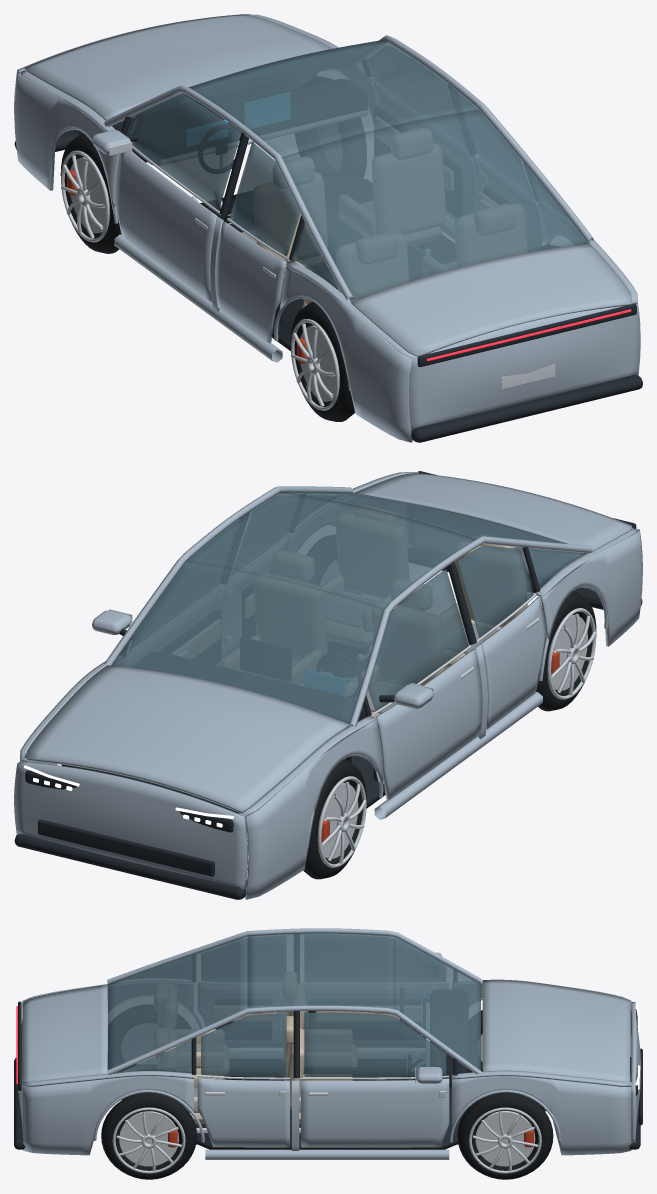
Rendered from volt-s-blender-v2.glb.
3 views of the same model, one above another, from view 1: azimuth 30°, elevation 25°; view 2: azimuth 150°, elevation 25°; view 3: azimuth 270°, elevation 25° (orthographic). The views are drawn at different scales.
Visible parts, largest first — view 1: Backlight, ArchLip_L-1.43, HoodSkin, Bumper_R_Skin, DoorSkin_FL, DoorGlass_FL, DoorSkin_RL, DoorGlass_RL, Bumper_R_Lower, BrakeDisc_FL, BrakeDisc_RL, Tire_RL (+7 smaller); view 2: Backlight, ArchLip_L-1.43, HoodSkin, Bumper_F_Skin, DoorSkin_FL, DoorGlass_FL, Bumper_F_Lower, DoorSkin_RL, DoorGlass_RL, BrakeDisc_RL, BrakeDisc_FL, Tire_FL (+7 smaller); view 3: ArchLip_L-1.43, Backlight, HoodSkin, DoorSkin_FR, DoorGlass_FR, DoorSkin_RR, DoorGlass_RR, Tire_FR, Tire_RR, BrakeDisc_RR, BrakeDisc_FR, CenterConsole (+8 smaller).
Part boxes in pixels (left/top/right/bottom): Backlight: left=121, top=39, right=590, bottom=300; ArchLip_L-1.43: left=14, top=14, right=640, bottom=442; HoodSkin: left=24, top=14, right=332, bottom=120; Bumper_R_Skin: left=409, top=304, right=640, bottom=430; DoorSkin_FL: left=92, top=130, right=217, bottom=301; DoorGlass_FL: left=130, top=95, right=241, bottom=210; DoorSkin_RL: left=216, top=221, right=286, bottom=343; DoorGlass_RL: left=229, top=142, right=300, bottom=256; Bumper_R_Lower: left=411, top=374, right=642, bottom=442; BrakeDisc_FL: left=61, top=150, right=109, bottom=242; BrakeDisc_RL: left=291, top=319, right=339, bottom=410; Tire_RL: left=290, top=302, right=354, bottom=421; Backlight: left=111, top=491, right=586, bottom=726; ArchLip_L-1.43: left=20, top=472, right=642, bottom=899; HoodSkin: left=24, top=665, right=349, bottom=813; Bumper_F_Skin: left=14, top=761, right=247, bottom=890; DoorSkin_FL: left=376, top=649, right=482, bottom=800; DoorGlass_FL: left=368, top=569, right=468, bottom=710; Bumper_F_Lower: left=14, top=819, right=246, bottom=899; DoorSkin_RL: left=480, top=597, right=546, bottom=729; DoorGlass_RL: left=457, top=545, right=533, bottom=637; BrakeDisc_RL: left=547, top=608, right=596, bottom=699; BrakeDisc_FL: left=317, top=776, right=366, bottom=867; Tire_FL: left=303, top=759, right=366, bottom=879; ArchLip_L-1.43: left=22, top=928, right=632, bottom=1159; Backlight: left=107, top=932, right=480, bottom=1073; HoodSkin: left=482, top=979, right=630, bottom=1082; DoorSkin_FR: left=301, top=1067, right=449, bottom=1147; DoorGlass_FR: left=304, top=1012, right=446, bottom=1076; DoorSkin_RR: left=197, top=1077, right=289, bottom=1147; DoorGlass_RR: left=201, top=1013, right=286, bottom=1076; Tire_FR: left=457, top=1092, right=553, bottom=1179; Tire_RR: left=101, top=1092, right=196, bottom=1179; BrakeDisc_RR: left=112, top=1107, right=185, bottom=1173; BrakeDisc_FR: left=469, top=1107, right=541, bottom=1173; CenterConsole: left=121, top=1036, right=470, bottom=1149.
Bounding box in the file's own units: 2.37 × 1.5 × 5.05.
